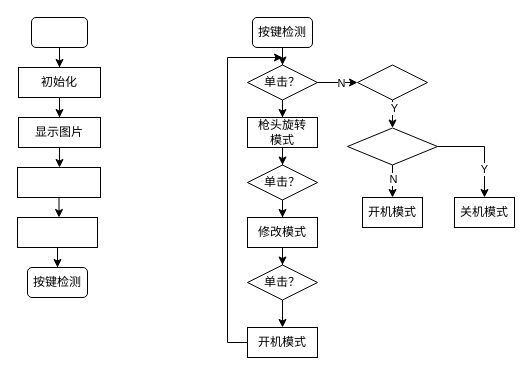
Some shapes in this 532 by 375 pixel diagram are drawn without their labels. The centre of each missing label's shape, as x and y in pixels:
任务函数 （关机模式）: (58,182)
开机: (59,32)
待机模式: (57,232)
系统在运行: (392,146)
长按: (392,82)
